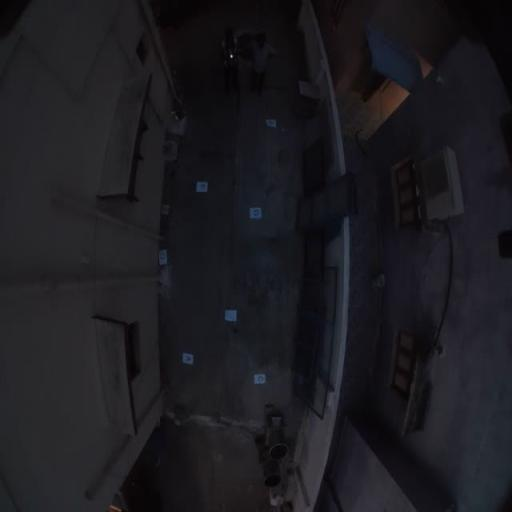A: (182, 353, 194, 366)
B: (266, 118, 276, 128)
C: (254, 373, 266, 384)
D: (158, 250, 169, 266), (224, 309, 238, 321)
E: (196, 180, 208, 193)
G: (250, 207, 262, 219)
